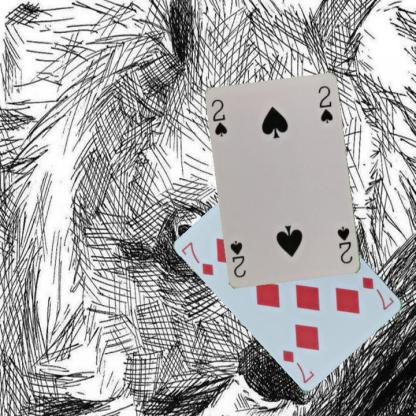2s: (209, 97, 229, 138), (335, 224, 354, 265)
7d: (359, 274, 396, 312), (179, 240, 216, 277)
